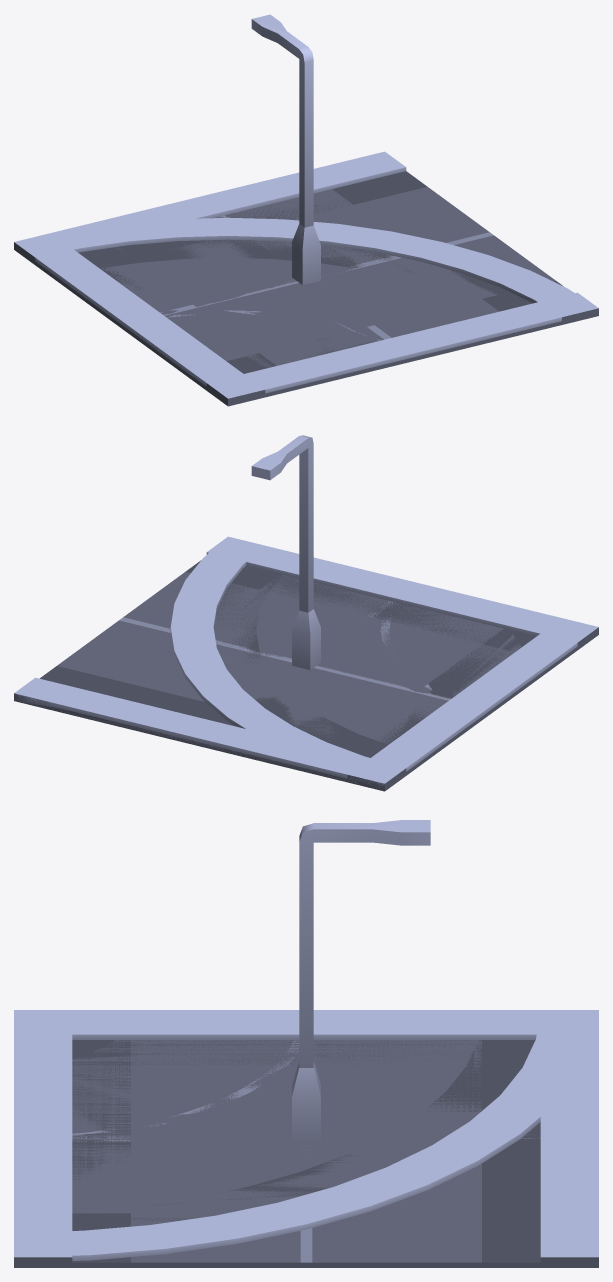
Rendered from roads.glb.
3 views of the same model, one above another, from view 1: azimuth 30°, elevation 25°; view 2: azimuth 150°, elevation 25°; view 3: azimuth 270°, elevation 25° (orthographic). The views are drawn at different scales.
Parts seen in each view (by area): view 1: road-intersection, road-bend, road-end, road-crossroad, road-straight, light-square; view 2: road-end, road-bend, road-intersection, road-straight, road-crossroad, light-square; view 3: road-intersection, road-bend, road-end, road-straight, road-crossroad, light-square.
Part boxes in pixels (x1,y1,x2,y2): road-intersection: (14, 152, 598, 406); road-bend: (20, 217, 577, 398); road-end: (21, 152, 589, 397); road-crossroad: (20, 151, 588, 398); road-straight: (112, 168, 588, 396); light-square: (251, 14, 320, 284); road-end: (14, 537, 595, 790); road-bend: (170, 537, 598, 783); road-intersection: (14, 537, 598, 790); road-straight: (44, 541, 590, 781); road-crossroad: (14, 536, 596, 791); light-square: (251, 435, 320, 670); road-intersection: (14, 1010, 598, 1267); road-bend: (14, 1010, 598, 1260); road-end: (14, 1010, 598, 1263); road-straight: (14, 1010, 596, 1256); road-crossroad: (14, 1010, 598, 1264); light-square: (292, 820, 430, 1145).
Bounding box in the file's own units: 1 × 0.6 × 1.
Materials: 1 (1 with a texture image).
